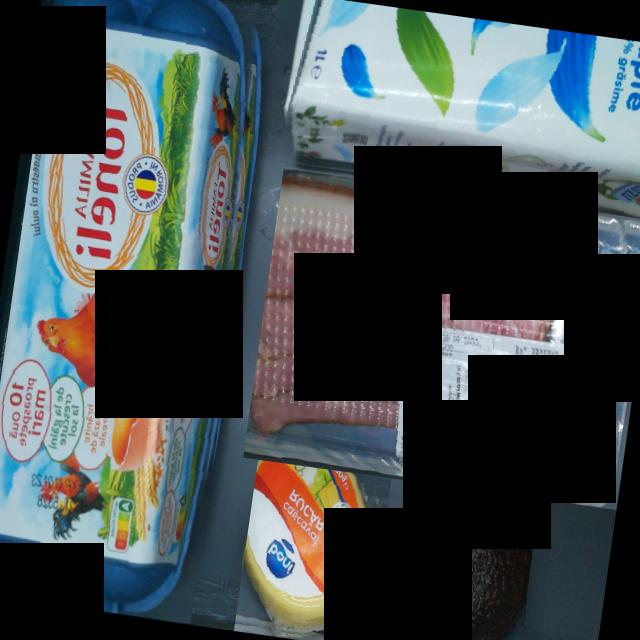avocado: (402, 506, 537, 640)
bacon: (243, 168, 640, 510)
cheese: (234, 452, 393, 640)
eggs: (0, 0, 278, 624)
milk: (274, 0, 640, 220)
